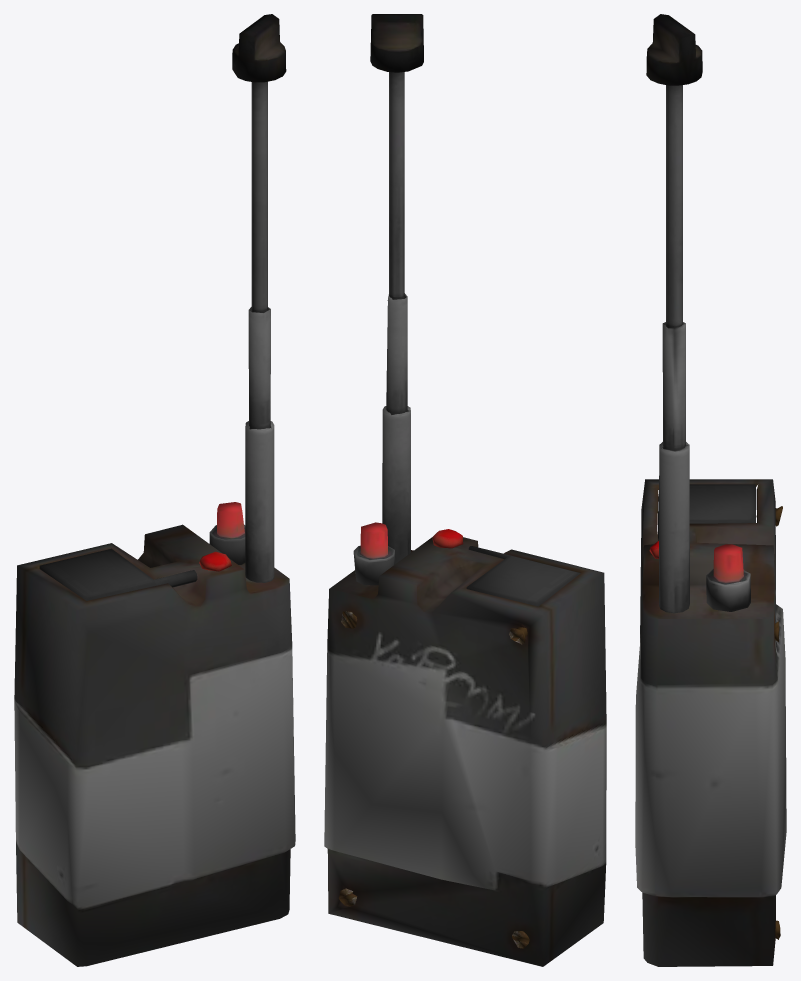
File: detonator.worldmodel.glb
3 views of the same model, side by side, from view 1: azimuth 30°, elevation 25°; view 2: azimuth 150°, elevation 25°; view 3: azimuth 270°, elevation 25° (orthographic). The views are drawn at different scales.
Visible parts, largest first — view 1: Detonator_LOD0; view 2: Detonator_LOD0; view 3: Detonator_LOD0.
Part boxes in pixels (x1,y1,x2,y2): Detonator_LOD0: [14, 14, 295, 966]; Detonator_LOD0: [324, 14, 606, 966]; Detonator_LOD0: [635, 14, 786, 966].
Bounding box in the file's own units: 0.0909 × 0.3338 × 0.0491.
Materials: 1 (1 with a texture image).
